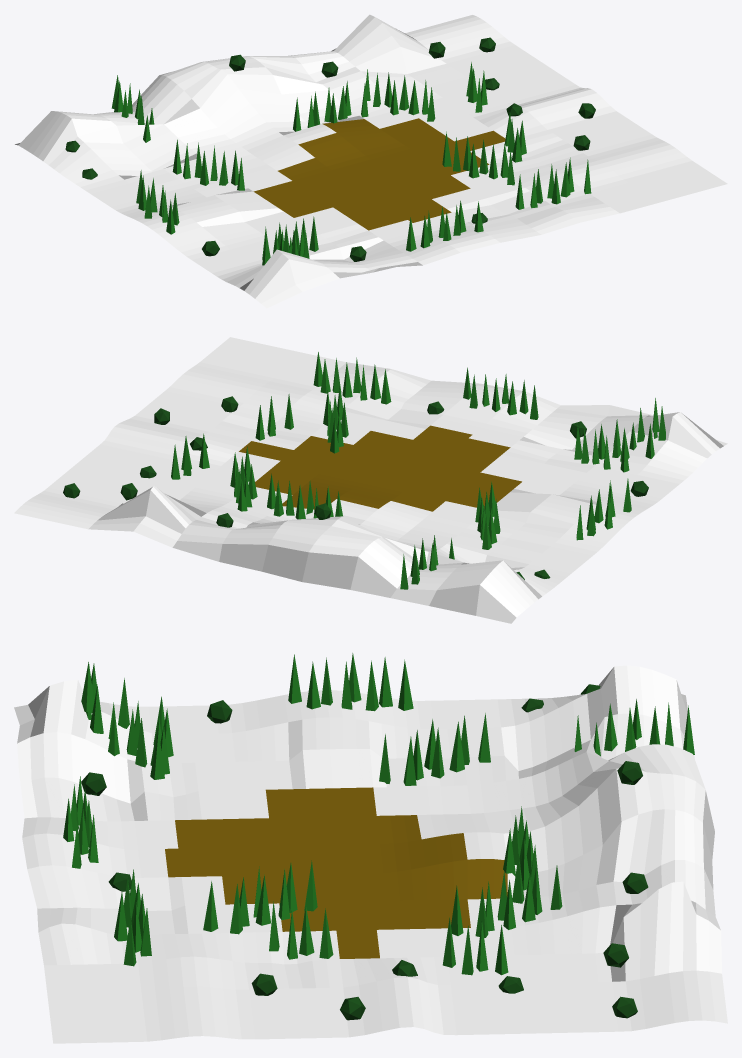
The model's file is ForestBaseMap.glb.
3 renders of one model, top to bottom at view 1: azimuth 30°, elevation 25°; view 2: azimuth 150°, elevation 25°; view 3: azimuth 270°, elevation 25°, orthographic. The views are drawn at different scales.
Visible parts, largest first — view 1: Land; view 2: Land; view 3: Land.
Boxes of the visible parts, x1,y1,x2,y2 form: Land: [15, 14, 727, 308]; Land: [14, 337, 727, 623]; Land: [14, 665, 727, 1043].
Bounding box in the file's own units: 61.33 × 7.85 × 53.02.
